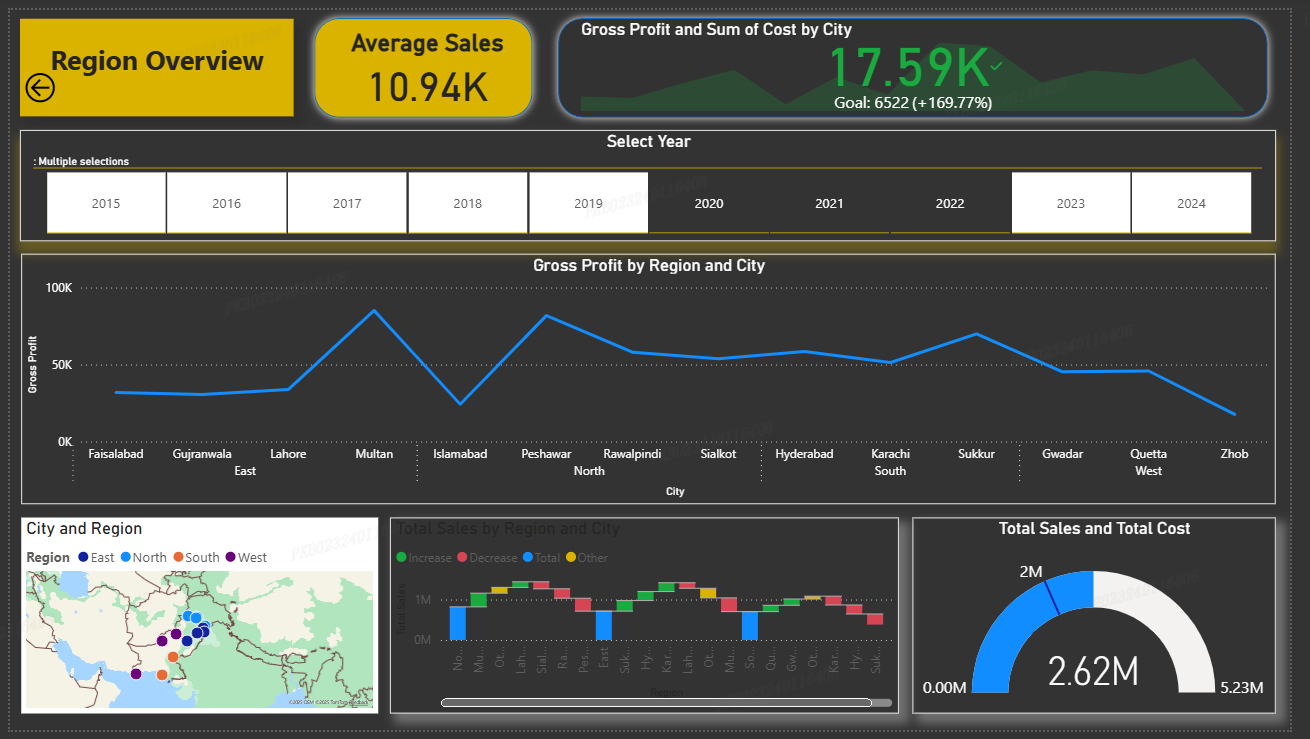

Layout of this report page (visuals, bound fields, positions):
{"tool":"powerbi","page":{"name":"Region Analysis","canvas":[1280,720],"ordinal":5},"visuals":[{"type":"azureMap","fields":{"Category":["Customers.City"],"Series":["Customers.Region"]},"box":[11.4,507.1,357.1,195.7],"z":0},{"type":"textbox","box":[10,8.8,273.8,97.5],"z":1000},{"type":"shape","box":[540,0,725.7,115.7],"z":2000},{"type":"shape","box":[295.7,0,234.3,115.7],"z":3000},{"type":"kpi","fields":{"Indicator":["Measures_Table.Gross Profit"],"Goal":["Sum(Products.Cost)"],"TrendLine":["Customers.City"]},"box":[566.7,9.2,674.2,97.5],"z":4000},{"type":"gauge","fields":{"Y":["Measures_Table.Total Sales"],"TargetValue":["Measures_Table.Total Cost"]},"box":[902.9,507.1,362.9,195.7],"z":5000},{"type":"card","title":"Average Sales","fields":{"Values":["Measures_Table.Average Sales"]},"box":[317.1,18.6,200,80],"z":6000},{"type":"slicer","title":"Select Year","fields":{"Values":["Sales.SalesDate.Variation.Date Hierarchy.Year"]},"box":[10,120,1255.7,111.4],"z":7000},{"type":"lineChart","fields":{"Y":["Measures_Table.Gross Profit"],"Category":["Customers.Region","Customers.City"]},"box":[11.4,244.3,1254.3,250],"z":8000},{"type":"waterfallChart","fields":{"Category":["Customers.Region"],"Y":["Measures_Table.Total Sales"],"Breakdown":["Customers.City"]},"box":[380,507.1,508.6,195.7],"z":9000},{"type":"actionButton","box":[9.8,57.5,100.3,40.4],"z":9001}]}

Visuals, with their boxes in screenshot pixels (x1, y1, x2, y2), scaled from the page's 1280x720 canvas onto the 1310x739 screenshot:
azureMap - Customers.City x Customers.Region: [12,520,377,721]
textbox: [10,9,290,109]
shape: [553,0,1295,119]
shape: [303,0,542,119]
kpi - Measures_Table.Gross Profit x Sum(Products.Cost): [580,9,1270,110]
gauge - Measures_Table.Total Sales x Measures_Table.Total Cost: [924,520,1295,721]
"Average Sales" card: [325,19,529,101]
"Select Year" slicer: [10,123,1295,238]
lineChart - Measures_Table.Gross Profit x Customers.Region: [12,251,1295,507]
waterfallChart - Customers.Region x Measures_Table.Total Sales: [389,520,909,721]
actionButton: [10,59,113,100]
